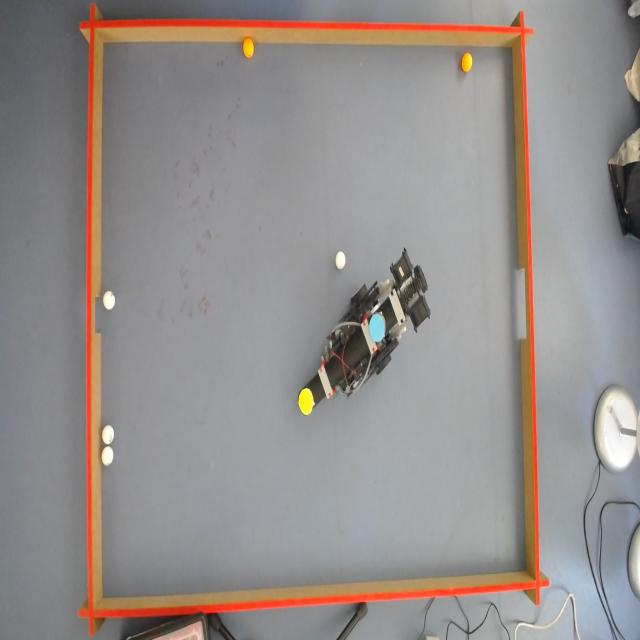orange: (462, 52, 476, 73), (242, 39, 254, 60)
robot: (299, 268, 425, 412)
robot-front: (297, 385, 316, 418)
robot-rear: (368, 310, 386, 342)
white: (100, 446, 113, 468), (100, 426, 114, 445), (104, 290, 115, 311), (336, 252, 346, 270)
